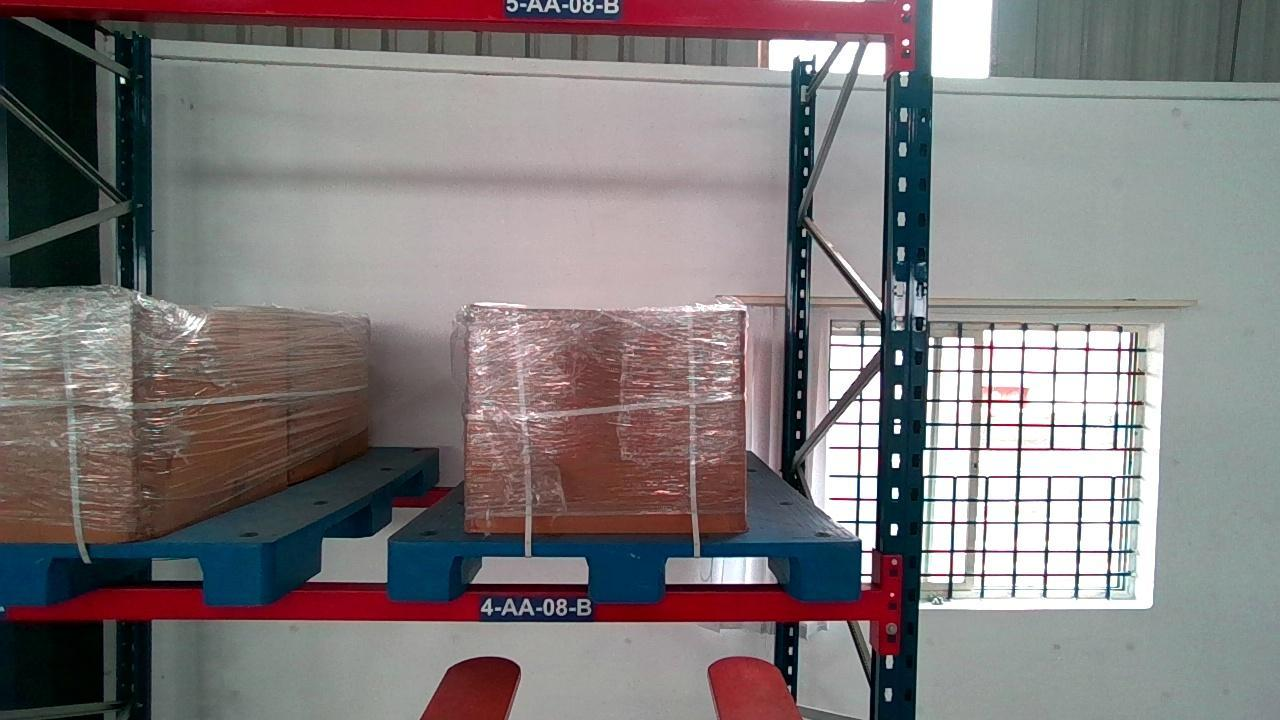h_rack: (2, 580, 888, 618)
small_pallet: (387, 541, 860, 597), (0, 541, 264, 605)
